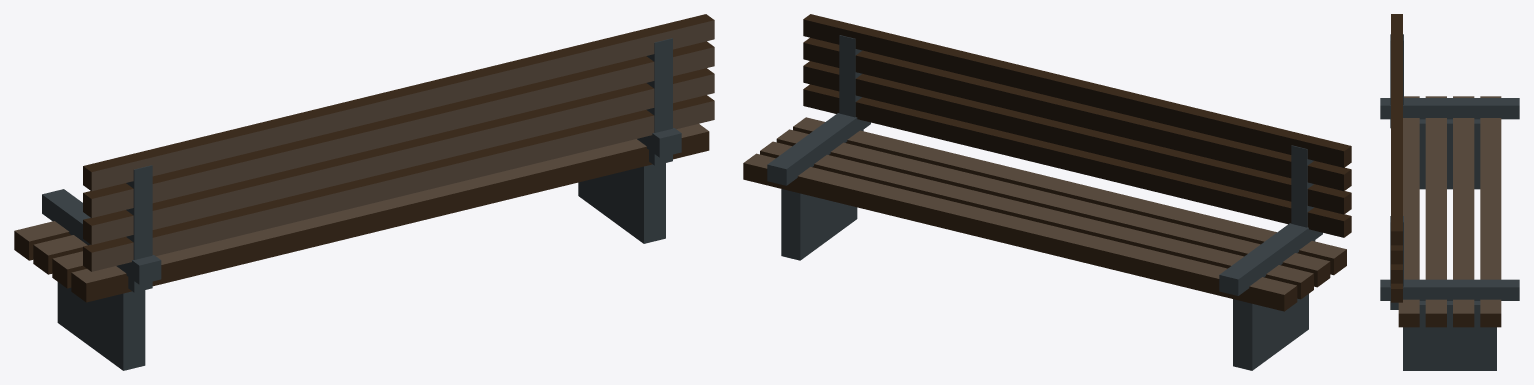
Rendered from lp_forecourt_bench.glb.
The picture shows the model from 3 angles, left to right: view 1: azimuth 30°, elevation 25°; view 2: azimuth 150°, elevation 25°; view 3: azimuth 270°, elevation 25°; orthographic projection. The views are drawn at different scales.
Parts seen in each view (by area): view 1: lp_forecourt_bench; view 2: lp_forecourt_bench; view 3: lp_forecourt_bench.
Boxes of the visible parts, x1=… form: lp_forecourt_bench: x1=14, y1=14, x2=714, y2=370; lp_forecourt_bench: x1=743, y1=14, x2=1351, y2=370; lp_forecourt_bench: x1=1380, y1=14, x2=1519, y2=370.
Bounding box in the file's own units: 3.4 × 1.12 × 0.92.
1 material, 1 textured.
